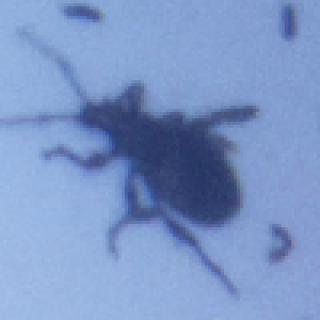bvw: (3, 29, 261, 298)
